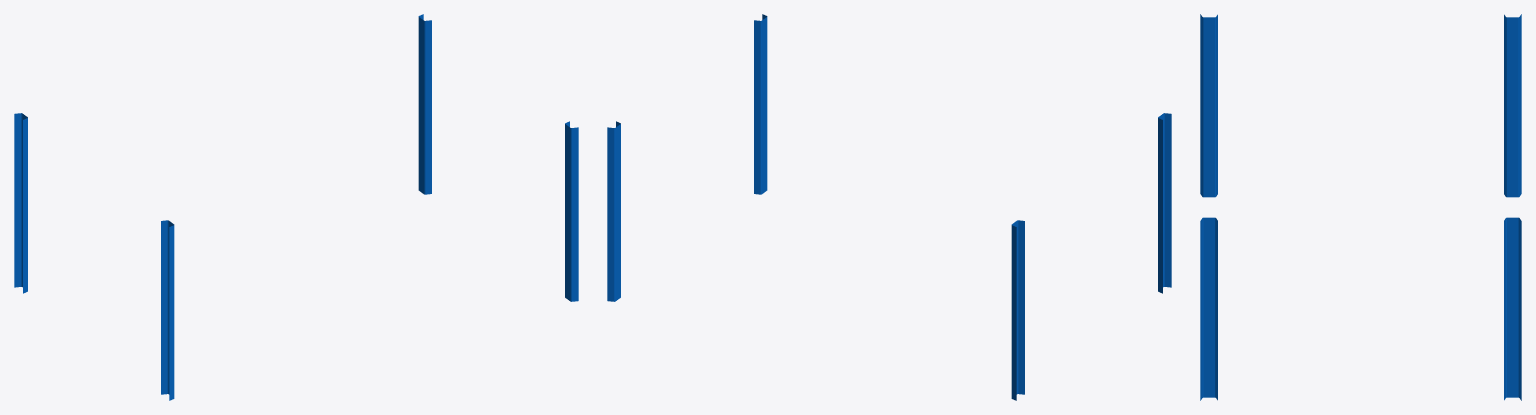
The model's file is WallPosts.fbx.
The picture shows the model from 3 angles, left to right: view 1: azimuth 30°, elevation 25°; view 2: azimuth 150°, elevation 25°; view 3: azimuth 270°, elevation 25°; orthographic projection. The views are drawn at different scales.
Parts seen in each view (by area): view 1: WallPosts; view 2: WallPosts; view 3: WallPosts.
Boxes of the visible parts, x1,y1,x2,y2 form: WallPosts: [14, 14, 578, 400]; WallPosts: [607, 14, 1171, 400]; WallPosts: [1200, 14, 1521, 400].
Bounding box in the file's own units: 125 × 50.66 × 81.84.
